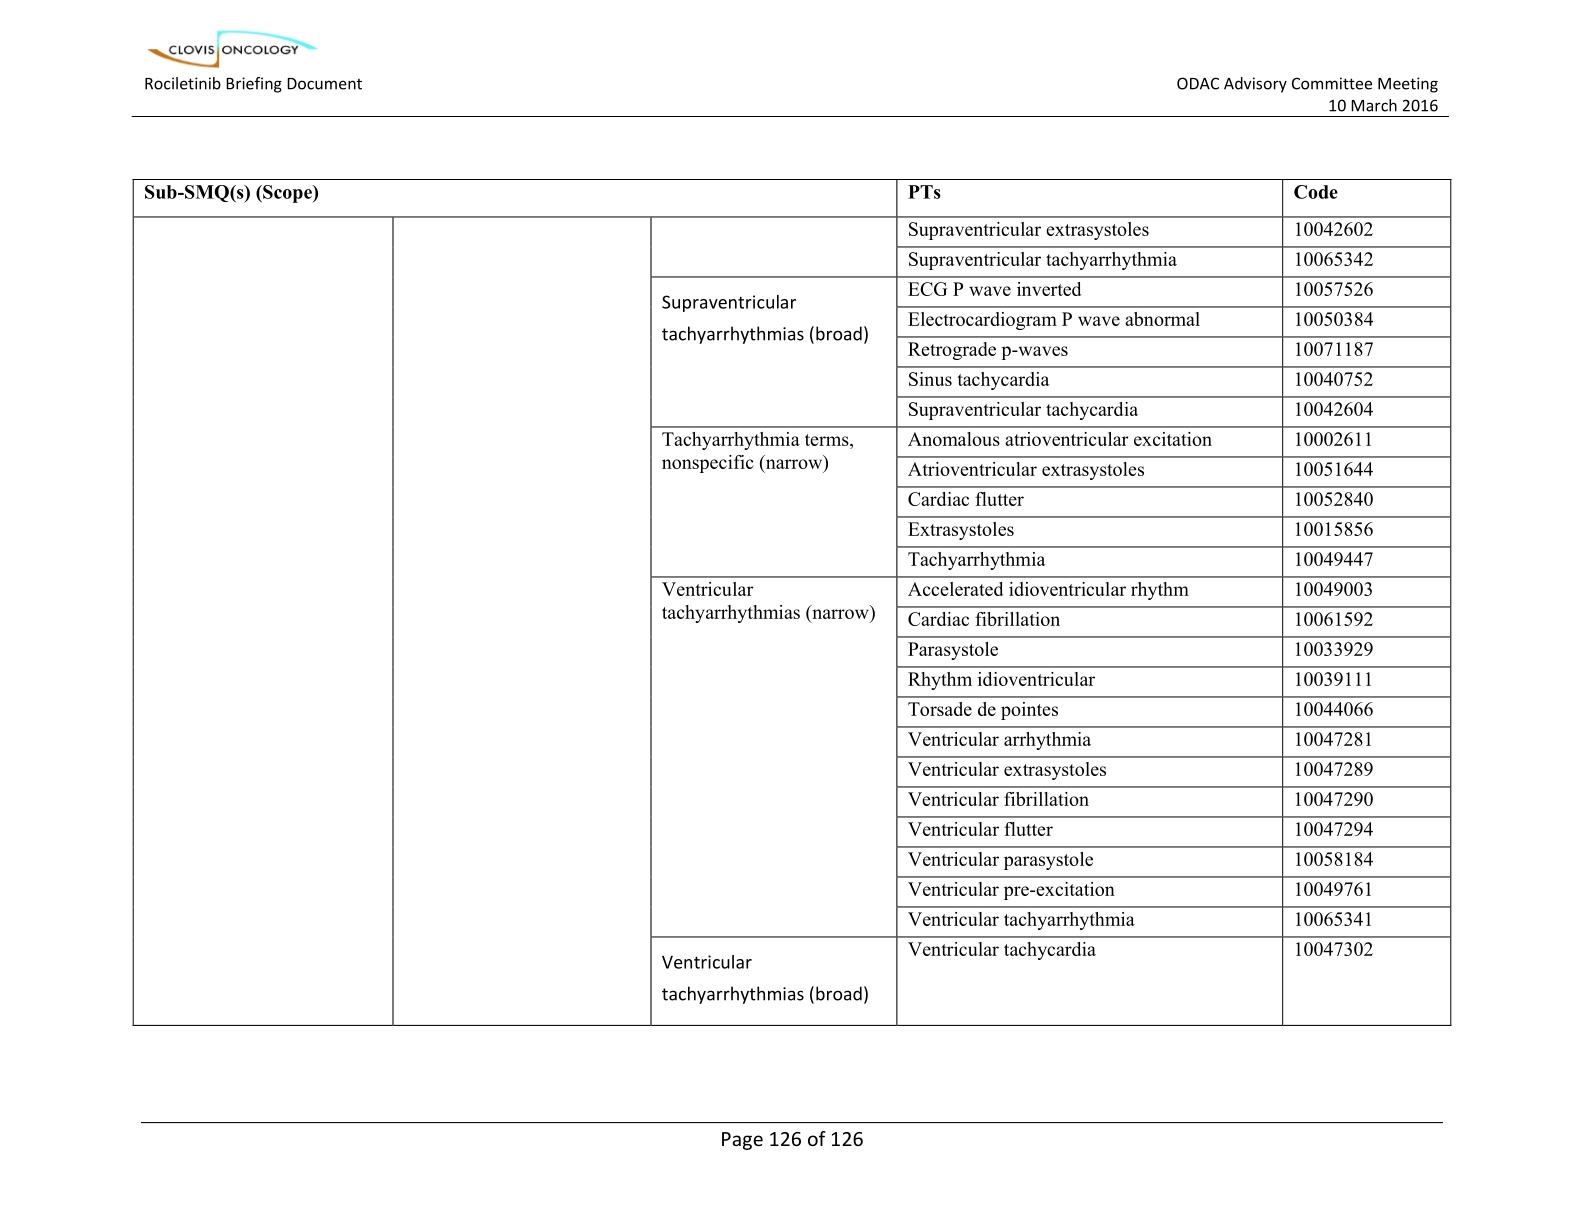merged_cells: (131, 177, 1452, 1027)
